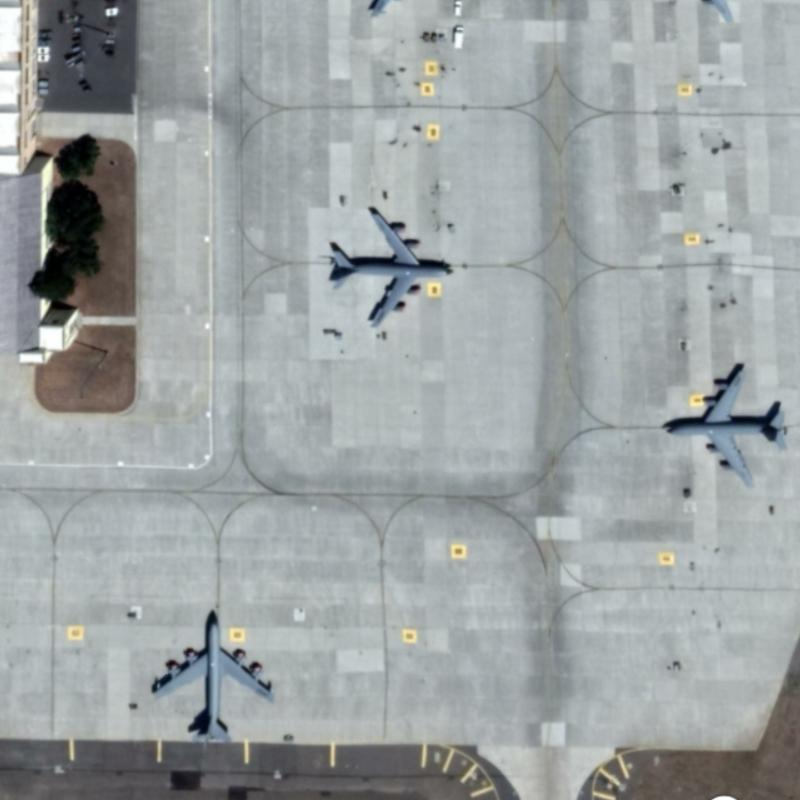A14: (144, 603, 277, 746), (651, 356, 796, 487), (322, 203, 456, 331)
